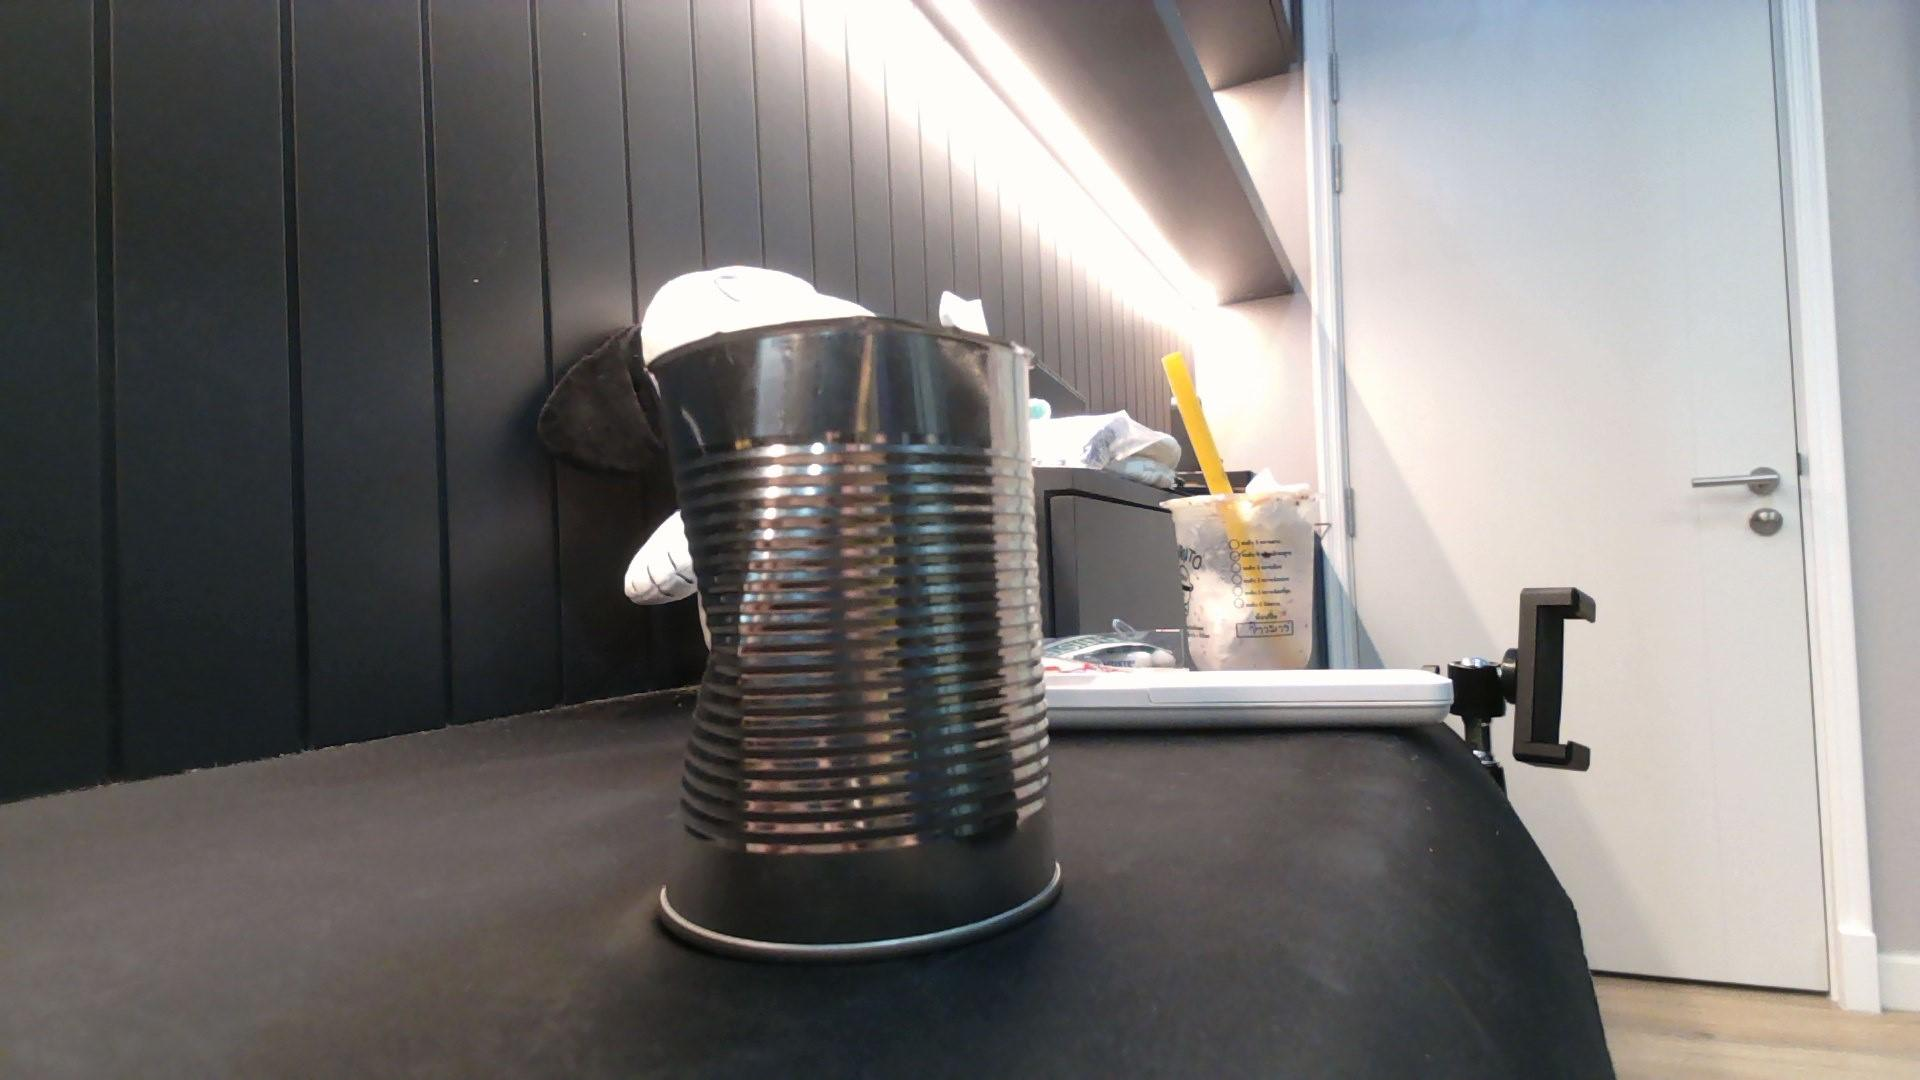metal: (633, 268, 1060, 960)
